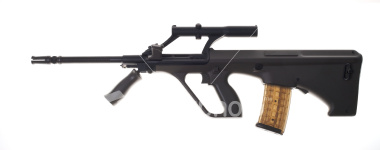rifle: (28, 24, 367, 132)
